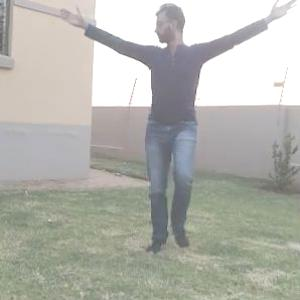takeoff: (56, 0, 299, 285)
